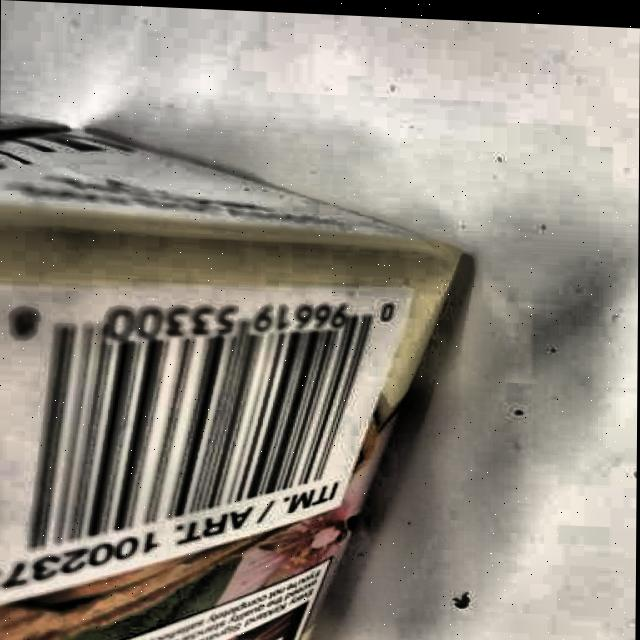cardboard: (0, 116, 472, 640)
